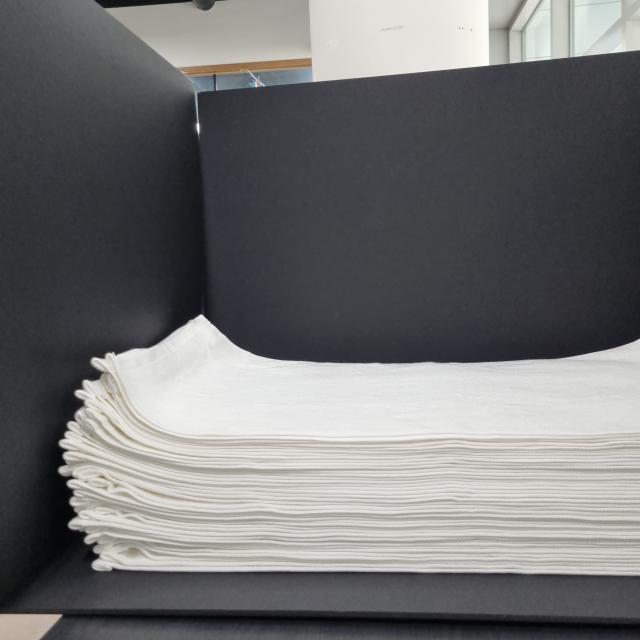not_50count_towel: (22, 308, 640, 584)
